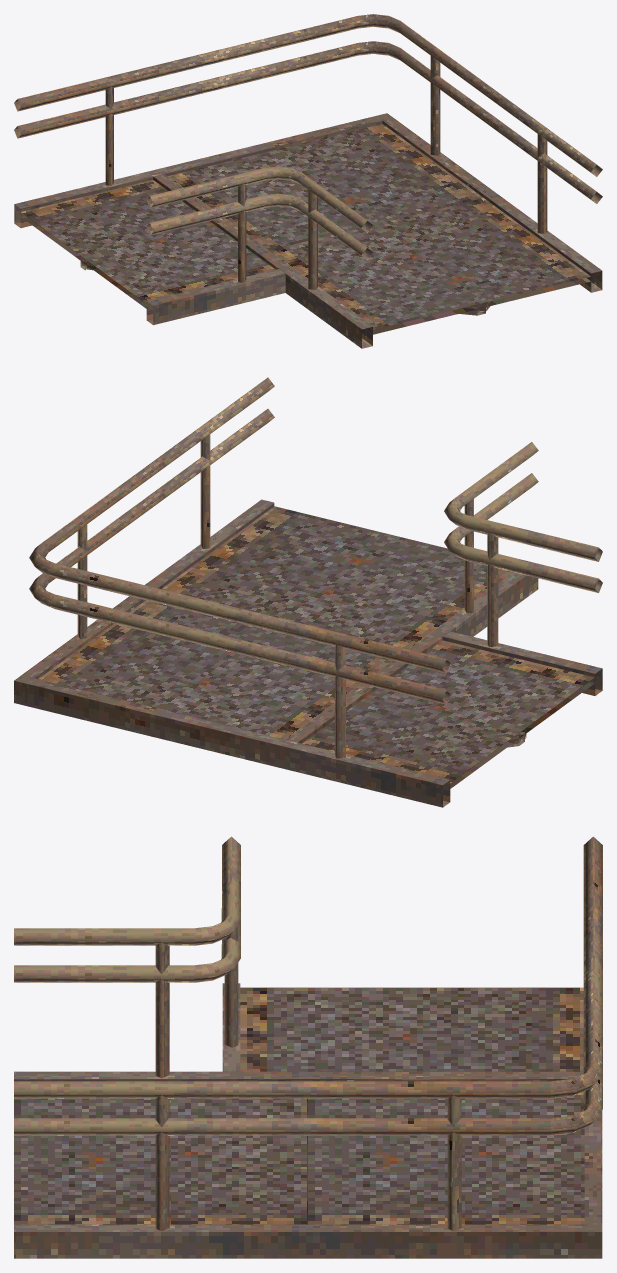
File: bridges_turn.glb
The picture shows the model from 3 angles, top to bottom: view 1: azimuth 30°, elevation 25°; view 2: azimuth 150°, elevation 25°; view 3: azimuth 270°, elevation 25°; orthographic projection. The views are drawn at different scales.
Visible parts, largest first — view 1: Bridges_turn; view 2: Bridges_turn; view 3: Bridges_turn.
Part boxes in pixels (x1=…): Bridges_turn: x1=14, y1=14, x2=602, y2=348; Bridges_turn: x1=14, y1=377, x2=602, y2=807; Bridges_turn: x1=14, y1=836, x2=602, y2=1258.
Bounding box in the file's own units: 3.24 × 1.05 × 3.24.
Materials: 1 (1 with a texture image).
